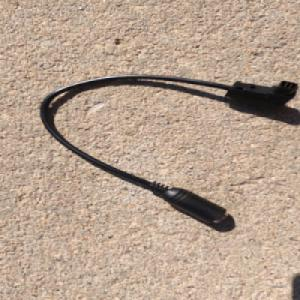Wire: (36, 72, 300, 224)
